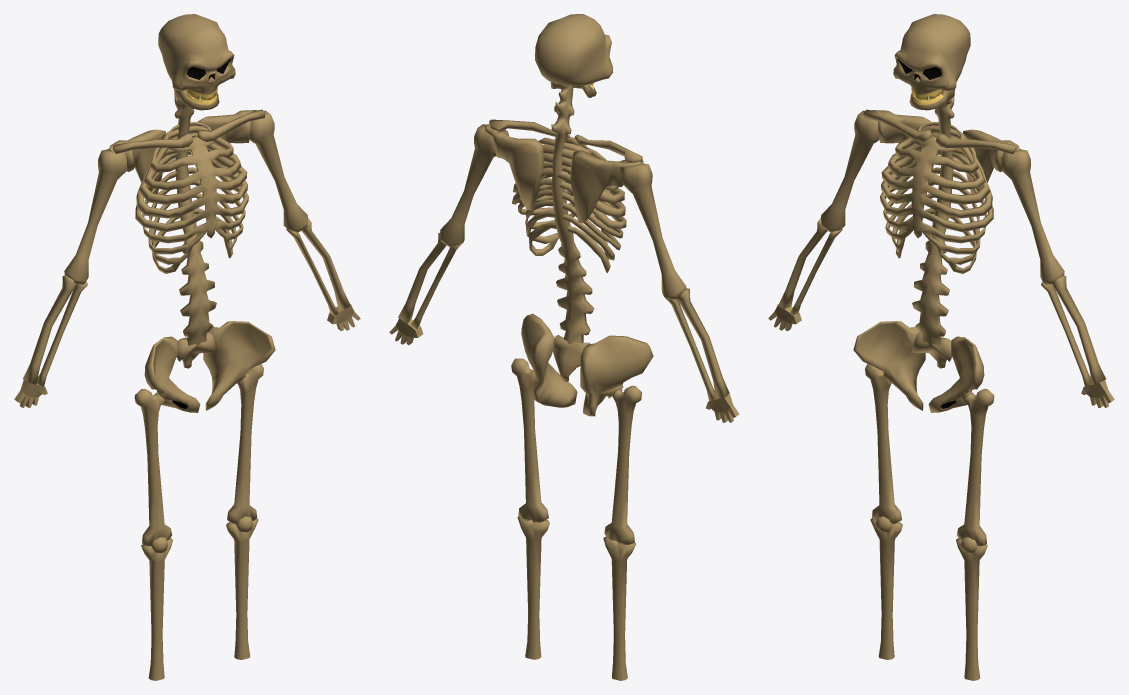
File: SkeletonTest.fbx
The picture shows the model from 3 angles, left to right: view 1: azimuth 30°, elevation 25°; view 2: azimuth 150°, elevation 25°; view 3: azimuth 330°, elevation 25°; orthographic projection.
Visible parts, largest first — view 1: Middleribthing.001, Pelvis, Skulllllll.001, Shiveringdownyourspine.001, Cylinder.003, ArmsTop.001, Cylinder.008, ArmsTop.002, Cube.009, Cylinder.004, Cylinder.007, Cube.007 (+5 smaller); view 2: Pelvis, Middleribthing.001, Skulllllll.001, Shiveringdownyourspine.001, Cylinder.003, Cylinder.008, ArmsTop.001, ShoulderBlades.001, ShoulderBlades.002, ArmsTop.002, Cylinder.007, Cylinder.004 (+5 smaller); view 3: Middleribthing.001, Pelvis, Skulllllll.001, Shiveringdownyourspine.001, Cylinder.008, ArmsTop.002, Cylinder.003, ArmsTop.001, Cube.007, Cylinder.007, Cylinder.004, Cube.009 (+5 smaller).
Part boxes in pixels (x1,y1,x2,y2): Middleribthing.001: (135,122,248,273); Pelvis: (144,321,275,412); Skulllllll.001: (158,14,235,100); Shiveringdownyourspine.001: (174,96,216,345); Cylinder.003: (134,388,171,546); ArmsTop.001: (64,149,126,284); Cylinder.008: (227,364,263,524); ArmsTop.002: (249,110,307,232); Cube.009: (23,275,87,386); Cylinder.004: (226,518,258,659); Cylinder.007: (141,538,172,680); Cube.007: (286,218,350,315); Pelvis: (521,313,653,416); Middleribthing.001: (512,137,626,273); Skulllllll.001: (535,14,612,86); Shiveringdownyourspine.001: (551,84,594,344); Cylinder.003: (604,385,641,544); Cylinder.008: (511,358,548,522); ArmsTop.001: (622,163,686,300); ShoulderBlades.001: (570,150,643,223); ShoulderBlades.002: (484,124,543,211); ArmsTop.002: (440,124,498,247); Cylinder.007: (603,536,636,680); Cylinder.004: (517,516,549,659); Middleribthing.001: (880,122,993,273); Pelvis: (853,321,984,412); Skulllllll.001: (893,14,970,100); Shiveringdownyourspine.001: (912,96,954,345); Cylinder.008: (957,388,994,546); ArmsTop.002: (1002,149,1064,284); Cylinder.003: (865,364,901,524); ArmsTop.001: (821,110,879,232); Cube.007: (1041,275,1105,386); Cylinder.007: (870,518,902,659); Cylinder.004: (956,538,987,680); Cube.009: (778,218,842,315).
Bounding box in the file's own units: 90.55 × 162 × 19.37.
